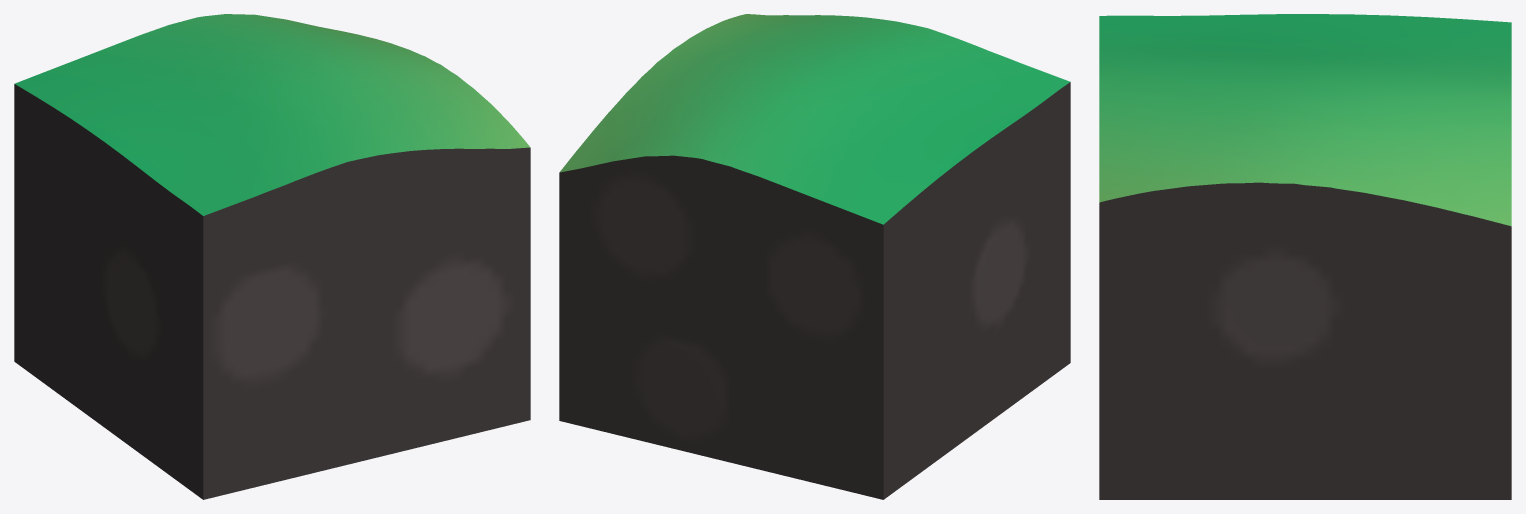
The model's file is land.fbx.
3 views of the same model, side by side, from view 1: azimuth 30°, elevation 25°; view 2: azimuth 150°, elevation 25°; view 3: azimuth 270°, elevation 25° (orthographic). The views are drawn at different scales.
Visible parts, largest first — view 1: Land; view 2: Land; view 3: Land.
Boxes of the visible parts, <box> form: Land: <box>14,14,530,499</box>; Land: <box>559,14,1070,499</box>; Land: <box>1099,14,1511,499</box>.
Bounding box in the file's own units: 0.112 × 0.112 × 0.1027.
